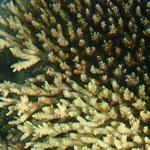dead: (1, 2, 145, 146)
